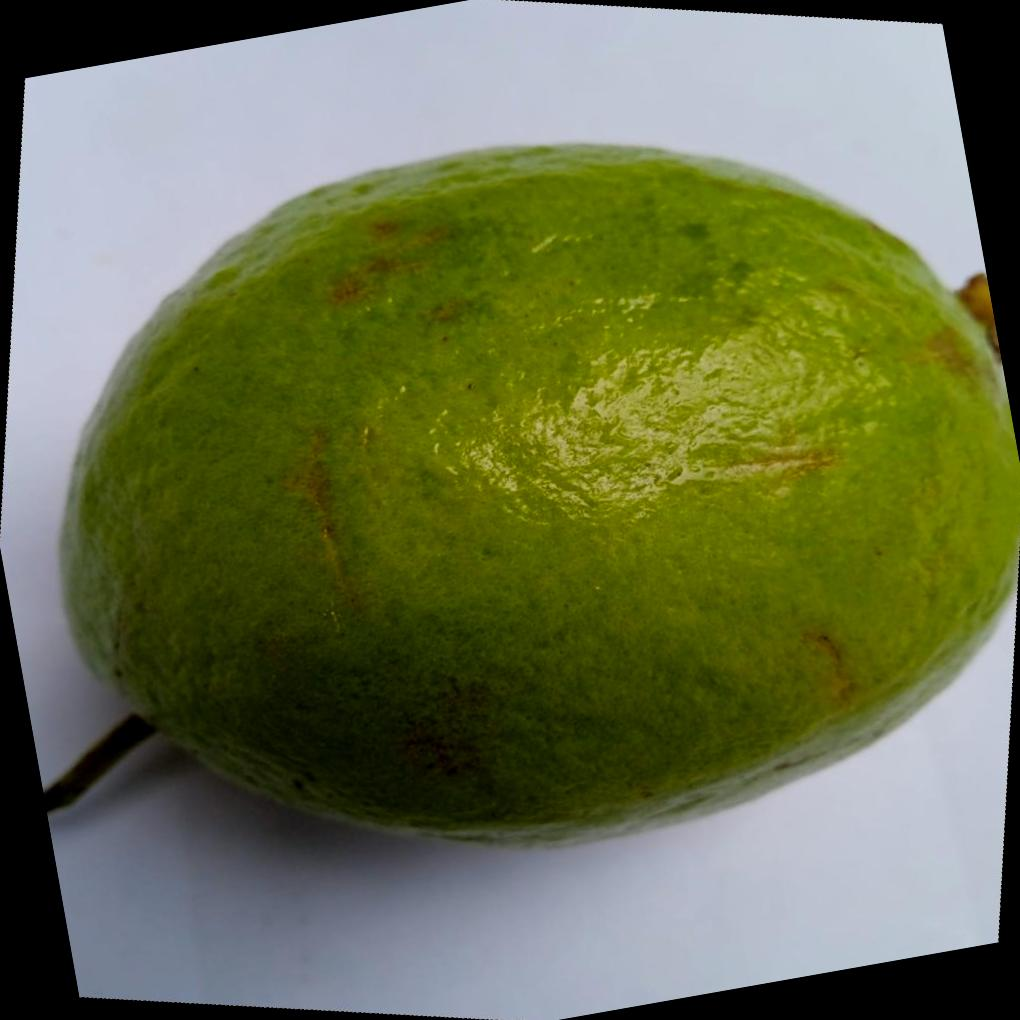FreshGuava: (52, 140, 1020, 851)
